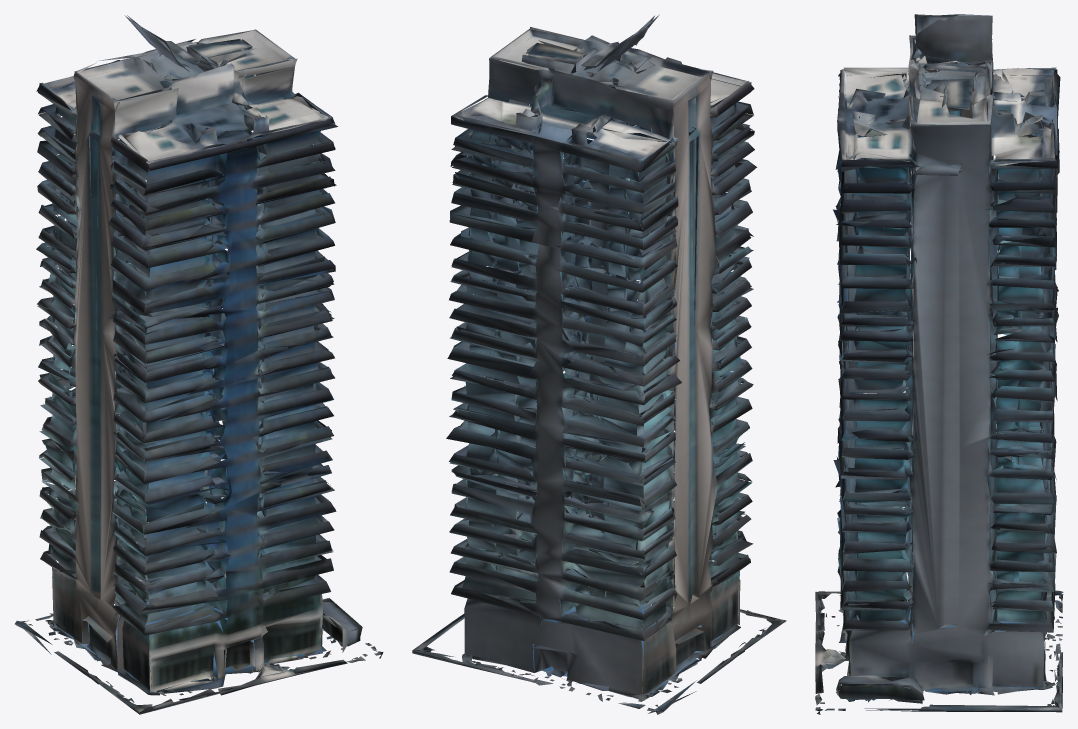
The model's file is Worldd4b0331077.glb.
The picture shows the model from 3 angles, left to right: view 1: azimuth 30°, elevation 25°; view 2: azimuth 150°, elevation 25°; view 3: azimuth 270°, elevation 25°; orthographic projection.
Parts seen in each view (by area): view 1: Mesh1_Mesh1.015; view 2: Mesh1_Mesh1.015; view 3: Mesh1_Mesh1.015.
Boxes of the visible parts, x1,y1,x2,y2 form: Mesh1_Mesh1.015: (15,15,383,714); Mesh1_Mesh1.015: (412,14,786,714); Mesh1_Mesh1.015: (815,14,1063,714).
Size of the model in its own units: 2.94 by 7.06 by 2.56.
Materials: 1 (1 with a texture image).
